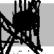not correct: (0, 0, 43, 54)
